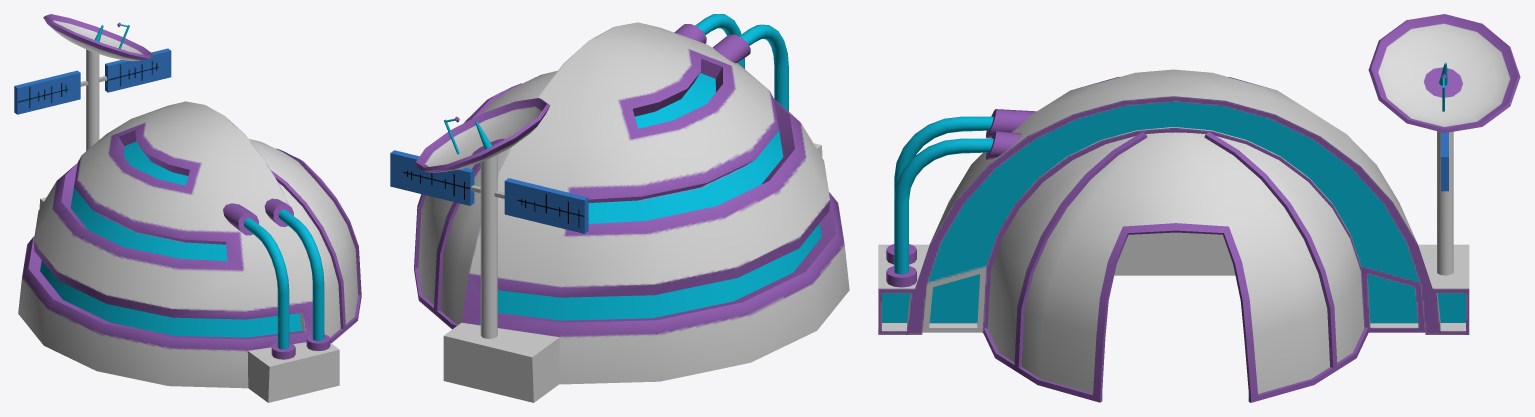
Rendered from Barrack_Age_6.fbx.
3 views of the same model, side by side, from view 1: azimuth 30°, elevation 25°; view 2: azimuth 150°, elevation 25°; view 3: azimuth 270°, elevation 25° (orthographic). The views are drawn at different scales.
Visible parts, largest first — view 1: Barrack_Age_6; view 2: Barrack_Age_6; view 3: Barrack_Age_6.
Part boxes in pixels (x1=…): Barrack_Age_6: x1=14, y1=14, x2=361, y2=402; Barrack_Age_6: x1=390, y1=14, x2=849, y2=402; Barrack_Age_6: x1=878, y1=14, x2=1520, y2=402.
Bounding box in the file's own units: 469 × 337 × 700.
Materials: 1 (1 with a texture image).
